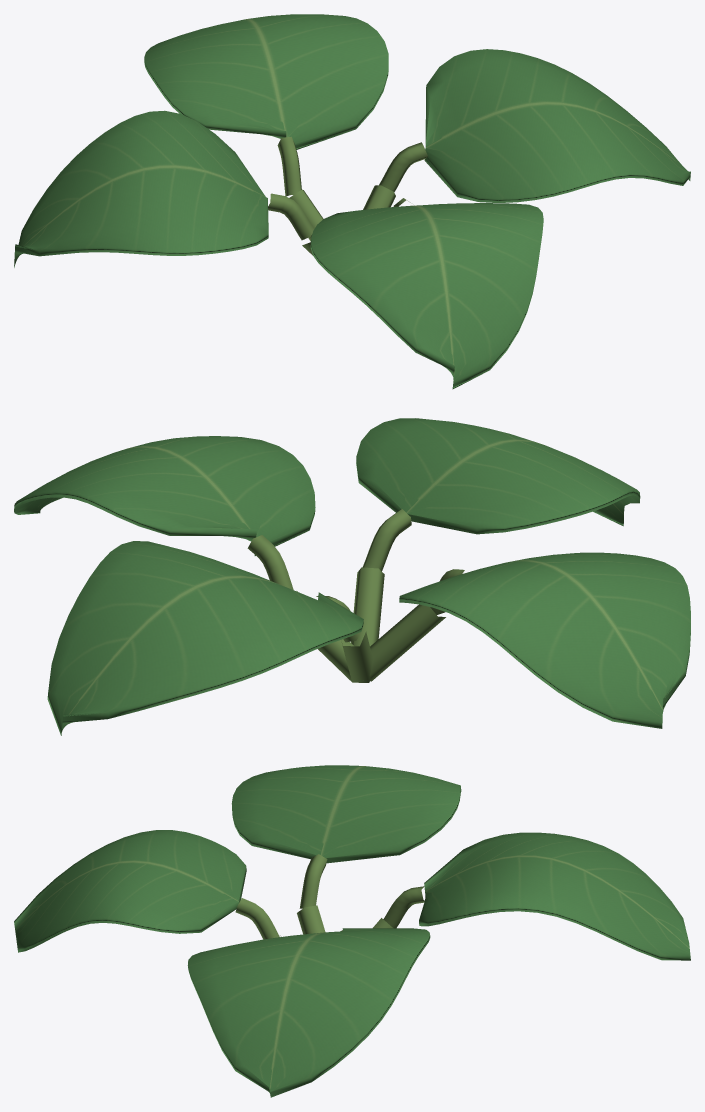
Rendered from peperomia-stage-1.glb.
3 views of the same model, one above another, from view 1: azimuth 30°, elevation 25°; view 2: azimuth 150°, elevation 25°; view 3: azimuth 270°, elevation 25° (orthographic). The views are drawn at different scales.
Parts seen in each view (by area): view 1: Leaf_0, Leaf_1, Leaf_3, Leaf_2, PlantBranches; view 2: Leaf_2, Leaf_3, Leaf_0, Leaf_1, PlantBranches; view 3: Leaf_1, Leaf_2, Leaf_3, Leaf_0, PlantBranches.
Part boxes in pixels (x1,y1,x2,y2): Leaf_0: (310, 203, 543, 389); Leaf_1: (424, 49, 690, 202); Leaf_3: (14, 110, 268, 267); Leaf_2: (144, 14, 388, 149); PlantBranches: (268, 136, 427, 255); Leaf_2: (47, 541, 363, 735); Leaf_3: (399, 552, 690, 728); Leaf_0: (356, 418, 640, 534); Leaf_1: (14, 436, 315, 555); PlantBranches: (247, 509, 464, 682); Leaf_1: (187, 928, 430, 1097); Leaf_2: (419, 832, 690, 960); Leaf_3: (231, 765, 461, 863); Leaf_0: (14, 830, 246, 952); PlantBranches: (235, 854, 424, 939).
Size of the model in its own units: 1.4 by 0.3548 by 1.42.
Materials: 2 (1 with a texture image).
